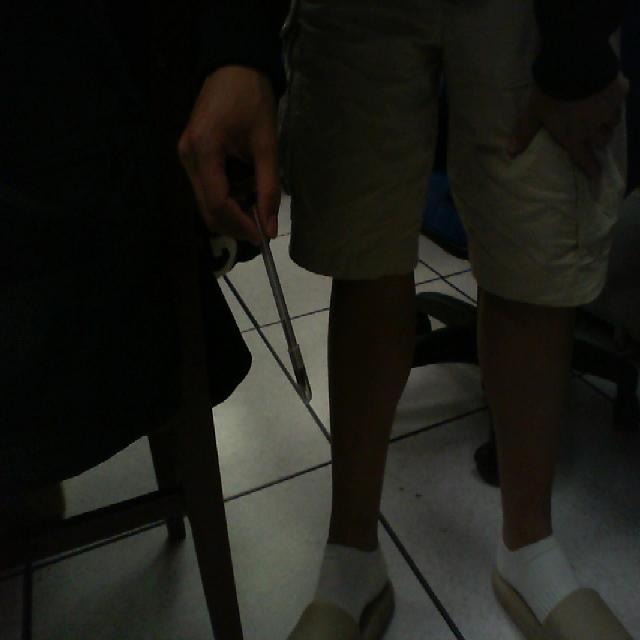Pen: (242, 174, 334, 422)
